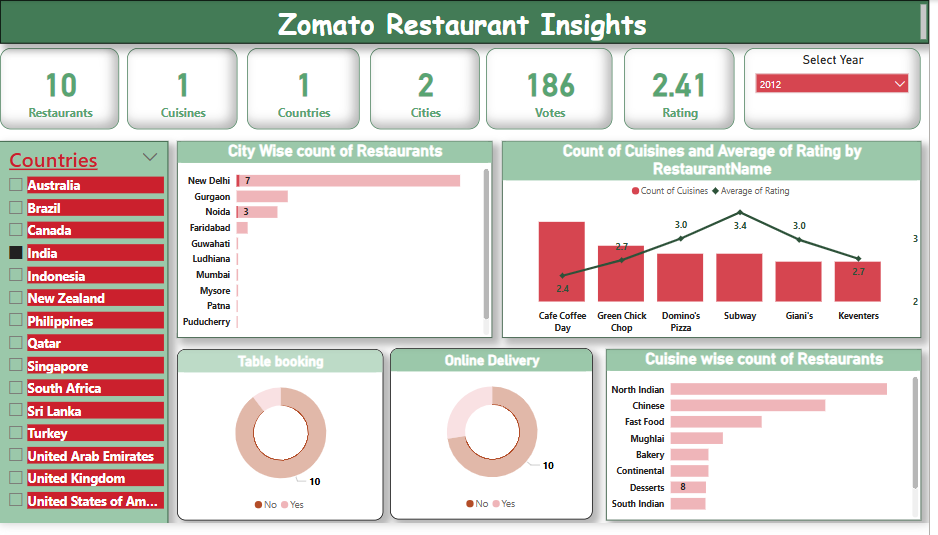

The page's visual inventory and layout, read from the dashboard file:
{"tool":"powerbi","page":{"name":"Dashboard","canvas":[1280,720],"ordinal":0},"visuals":[{"type":"slicer","fields":{"Values":["Sheet2.country name"]},"box":[0,194.2,232.6,526.7],"z":0},{"type":"card","fields":{"Values":["CountNonNull(Sheet2.countryID)"]},"box":[340.7,66.3,154.7,111.6],"z":2000},{"type":"card","fields":{"Values":["Count(Sheet1.Cuisines)"]},"box":[176.7,66.3,152.3,111.6],"z":3000},{"type":"card","fields":{"Values":["Count(Sheet1.RestaurantID)"]},"box":[1.2,66.3,164,111.6],"z":4000},{"type":"card","fields":{"Values":["Count(Sheet1.City)"]},"box":[510.5,66.3,151.2,111.6],"z":5000},{"type":"textbox","box":[1.5,0,1279.2,60.3],"z":6000},{"type":"donutChart","title":"Table booking ","fields":{"Category":["cuisines copy.Has_Table_booking"],"Y":["CountNonNull(cuisines copy.Has_Table_booking)"]},"box":[245.3,480.2,283.7,236],"z":7000},{"type":"donutChart","title":"Online Delivery","fields":{"Category":["cuisines copy.Has_Online_delivery"],"Y":["CountNonNull(cuisines copy.Has_Online_delivery)"]},"box":[538.6,479.5,279.4,236.2],"z":8000},{"type":"clusteredBarChart","title":"Cuisine wise count of Restaurants","fields":{"Category":["Sheet1.Column"],"Y":["CountNonNull(Sheet1.Cuisines)"]},"box":[834.9,480.2,433.7,236],"z":9000},{"type":"clusteredBarChart","title":"City Wise count of Restaurants","fields":{"Category":["cuisines copy.City"],"Y":["CountNonNull(cuisines copy.RestaurantID)"]},"box":[245.3,194.2,433.7,270.9],"z":10000},{"type":"lineStackedColumnComboChart","fields":{"Category":["cuisines copy.RestaurantName"],"Y":["CountNonNull(cuisines copy.Cuisines)"],"Y2":["Avg(cuisines copy.Rating)"]},"box":[691.9,194.2,576.7,270.9],"z":11000},{"type":"slicer","title":"Select Year","fields":{"Values":["cuisines copy.new datekey.Variation.Date Hierarchy.Year","cuisines copy.new datekey.Variation.Date Hierarchy.Quarter","cuisines copy.new datekey.Variation.Date Hierarchy.Month","cuisines copy.new datekey.Variation.Date Hierarchy.Day"]},"box":[1025.6,66.3,243,111.6],"z":13000},{"type":"card","fields":{"Values":["Sum(cuisines copy.Votes)"]},"box":[670.9,66.3,174.4,111.6],"z":14000},{"type":"card","fields":{"Values":["Avg(cuisines copy.Rating)"]},"box":[860.5,66.3,152.3,111.6],"z":15000}]}

Visuals, with their boxes in screenshot pixels (x1, y1, x2, y2), scaled from the page's 1280x720 canvas onto the 938x535 screenshot:
slicer - Sheet2.country name: BBox(0, 144, 170, 534)
card - CountNonNull(Sheet2.countryID): BBox(250, 49, 363, 132)
card - Count(Sheet1.Cuisines): BBox(129, 49, 241, 132)
card - Count(Sheet1.RestaurantID): BBox(1, 49, 121, 132)
card - Count(Sheet1.City): BBox(374, 49, 485, 132)
textbox: BBox(1, 0, 937, 45)
"Table booking " donutChart: BBox(180, 357, 388, 532)
"Online Delivery" donutChart: BBox(395, 356, 599, 532)
"Cuisine wise count of Restaurants" clusteredBarChart: BBox(612, 357, 930, 532)
"City Wise count of Restaurants" clusteredBarChart: BBox(180, 144, 498, 346)
lineStackedColumnComboChart - cuisines copy.RestaurantName x CountNonNull(cuisines copy.Cuisines): BBox(507, 144, 930, 346)
"Select Year" slicer: BBox(752, 49, 930, 132)
card - Sum(cuisines copy.Votes): BBox(492, 49, 619, 132)
card - Avg(cuisines copy.Rating): BBox(631, 49, 742, 132)
